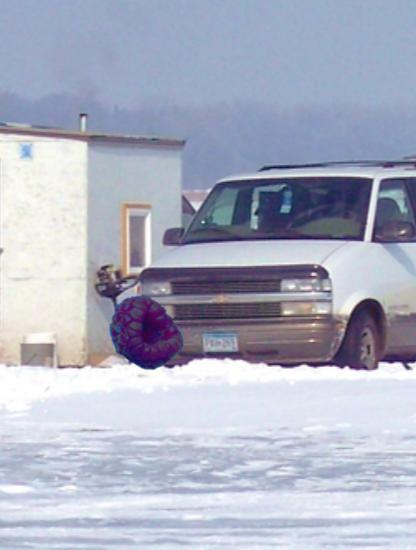Raspberry: (107, 293, 185, 371)
